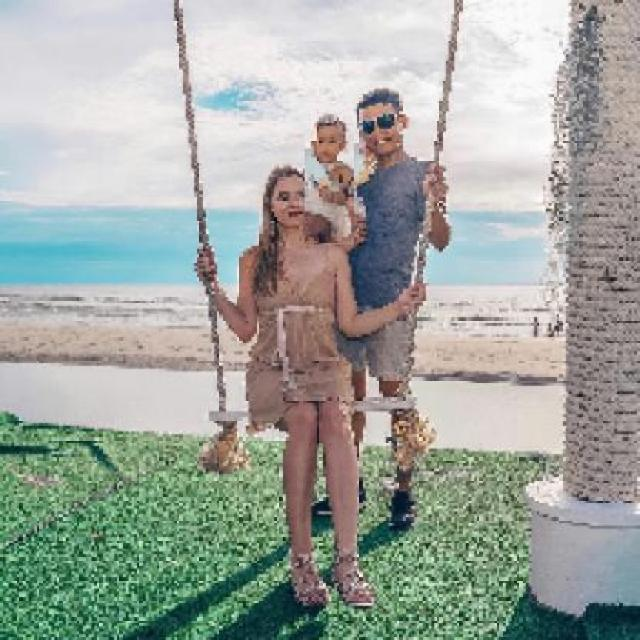child: (303, 111, 354, 246)
